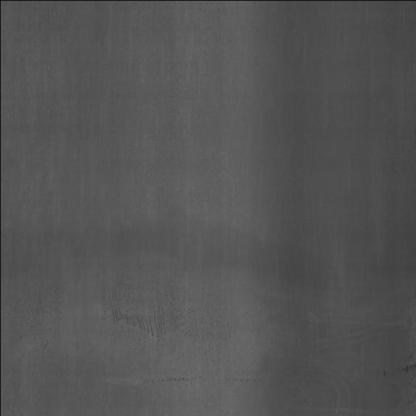rolled_pit: (98, 279, 215, 351)
